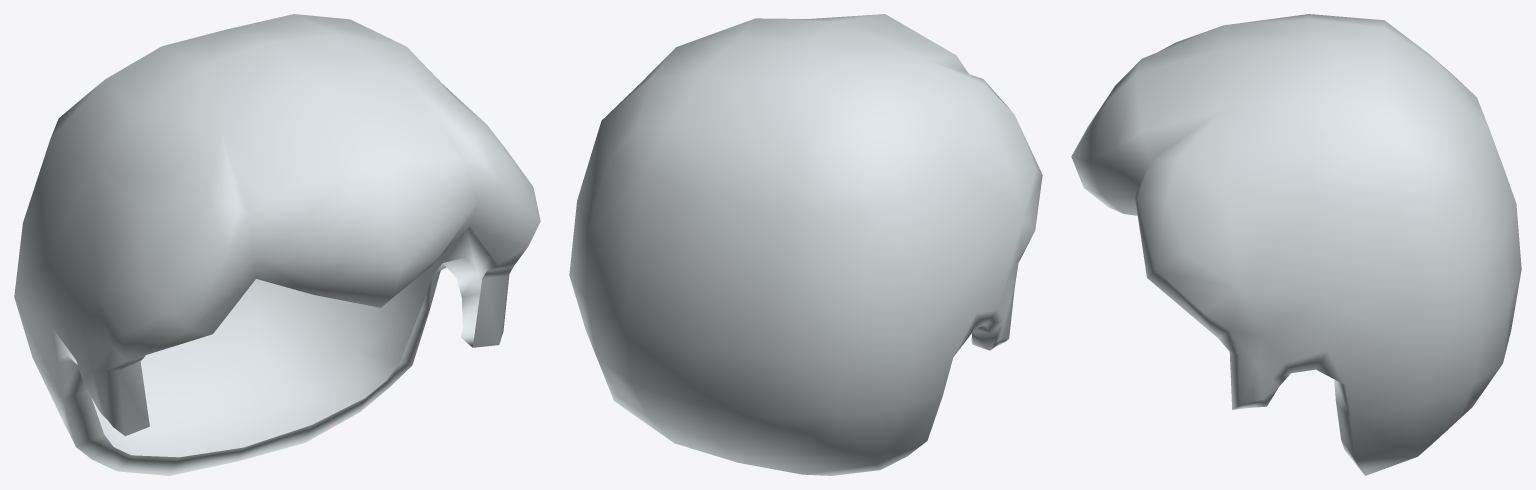
The model's file is Hair_12.fbx.
The picture shows the model from 3 angles, left to right: view 1: azimuth 30°, elevation 25°; view 2: azimuth 150°, elevation 25°; view 3: azimuth 270°, elevation 25°; orthographic projection. The views are drawn at different scales.
Visible parts, largest first — view 1: Hair_12; view 2: Hair_12; view 3: Hair_12.
Boxes of the visible parts, x1,y1,x2,y2 form: Hair_12: (14,14,540,475); Hair_12: (569,14,1042,475); Hair_12: (1071,14,1521,475).
Bounding box in the file's own units: 53.96 × 53.28 × 54.52.
